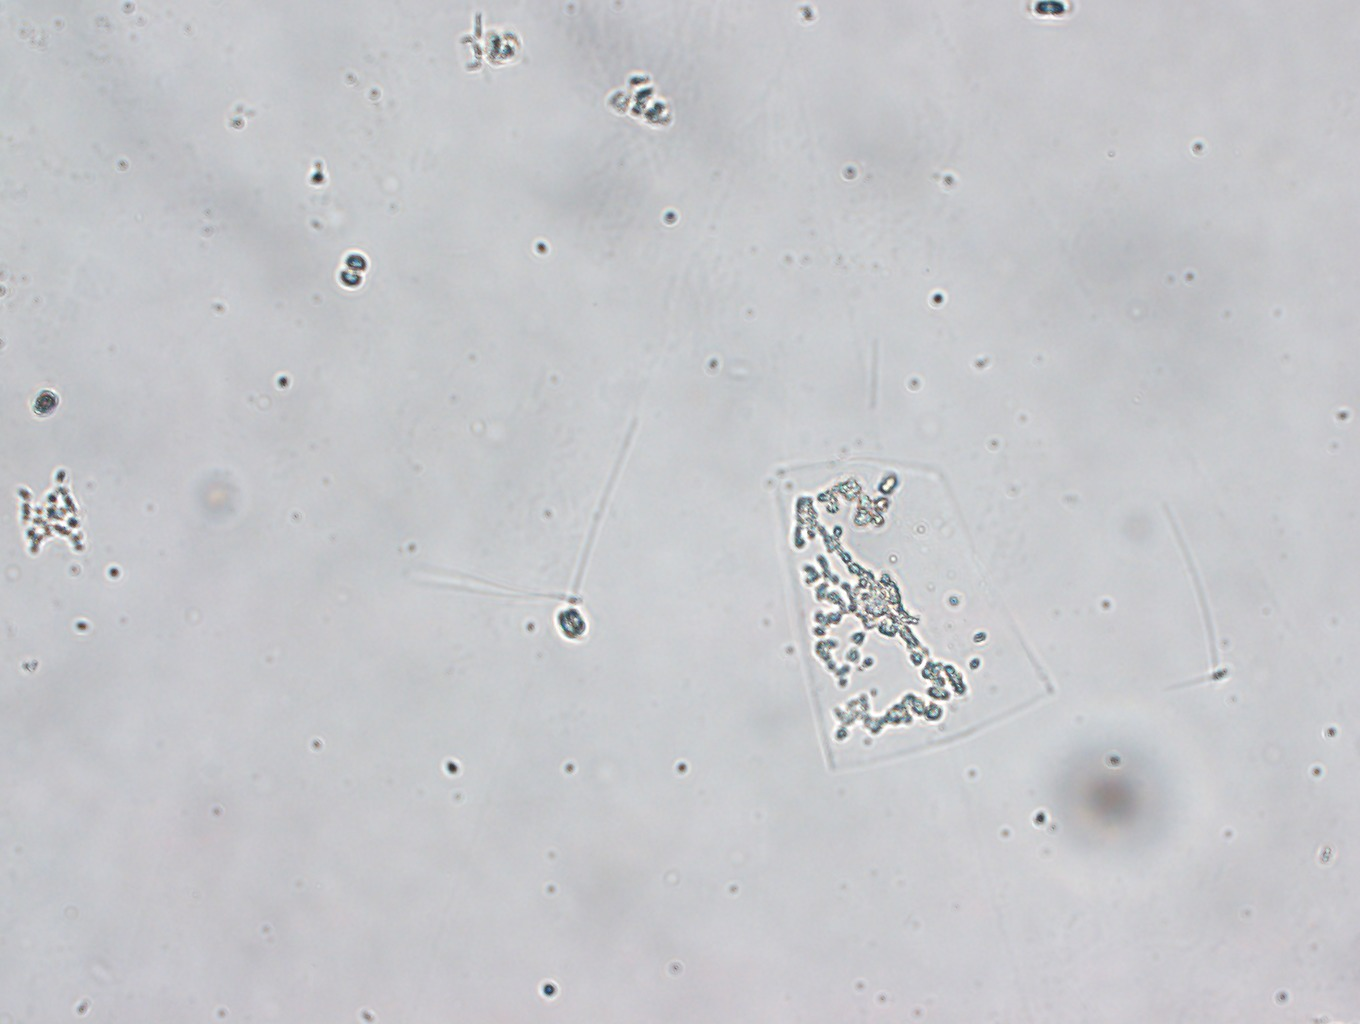chaetoceros: (405, 414, 639, 648)
helicotheca: (778, 457, 1056, 774)
